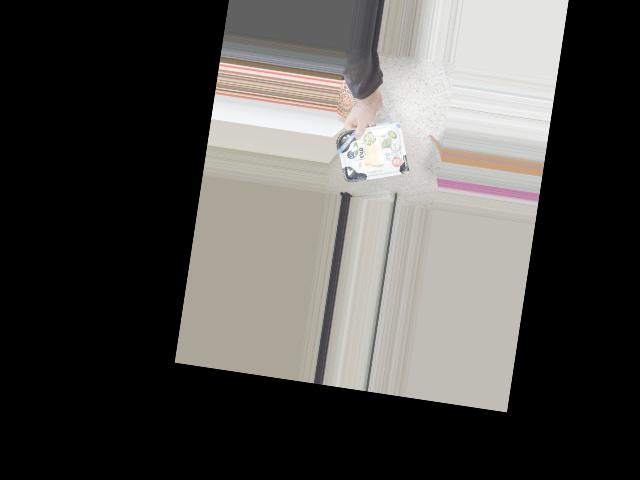cheese: (338, 124, 405, 180)
